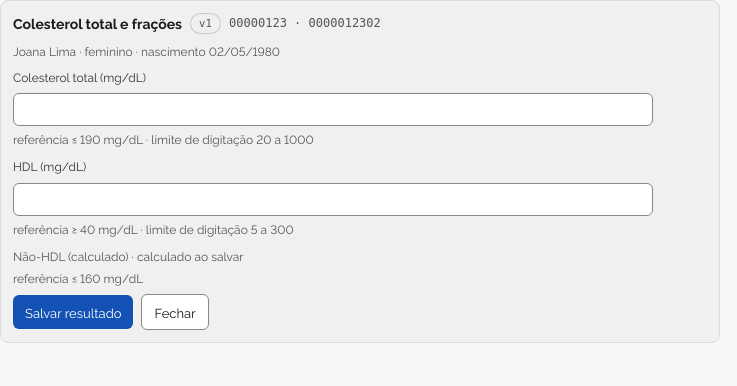
ResultEntryForm › calculado não se digita; nada digitado não envia
This screenshot has width=737, height=386.
Expected: the text "Não-HDL (calculado) · calculado ao salvar" is shown, [13,247,244,264]
What coordinates should you click on to do the following:
click the button "Salvar resultado"
I would click on:
 (73, 312)
Its box is [13,295,134,329].
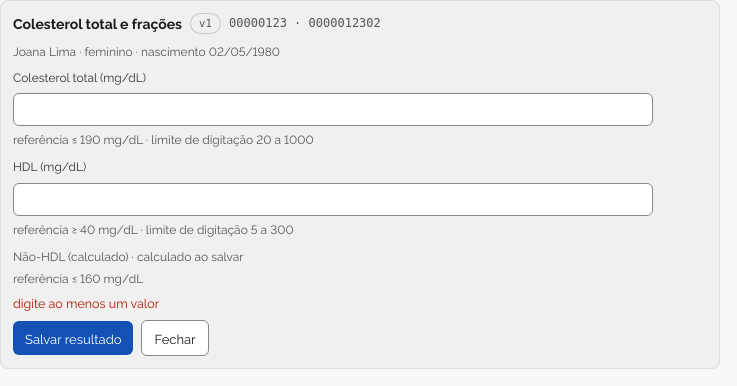
Result: the message reads "digite ao menos um valor" at [13,294,159,311]
